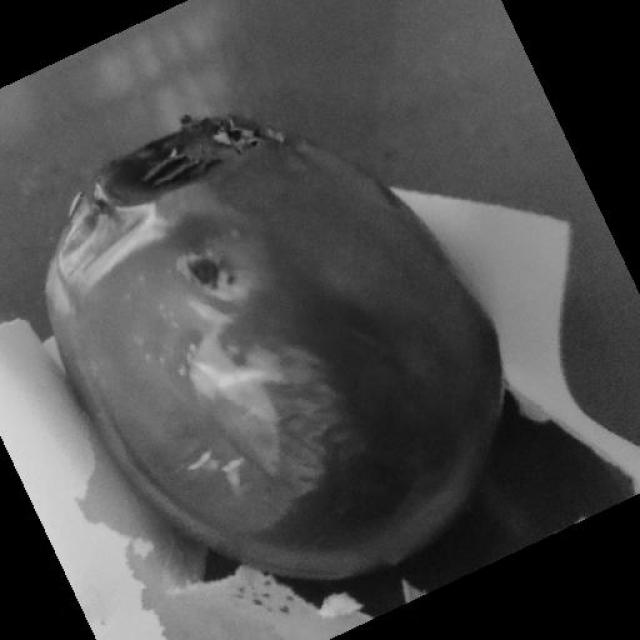Stale_tomato: (29, 100, 511, 564)
